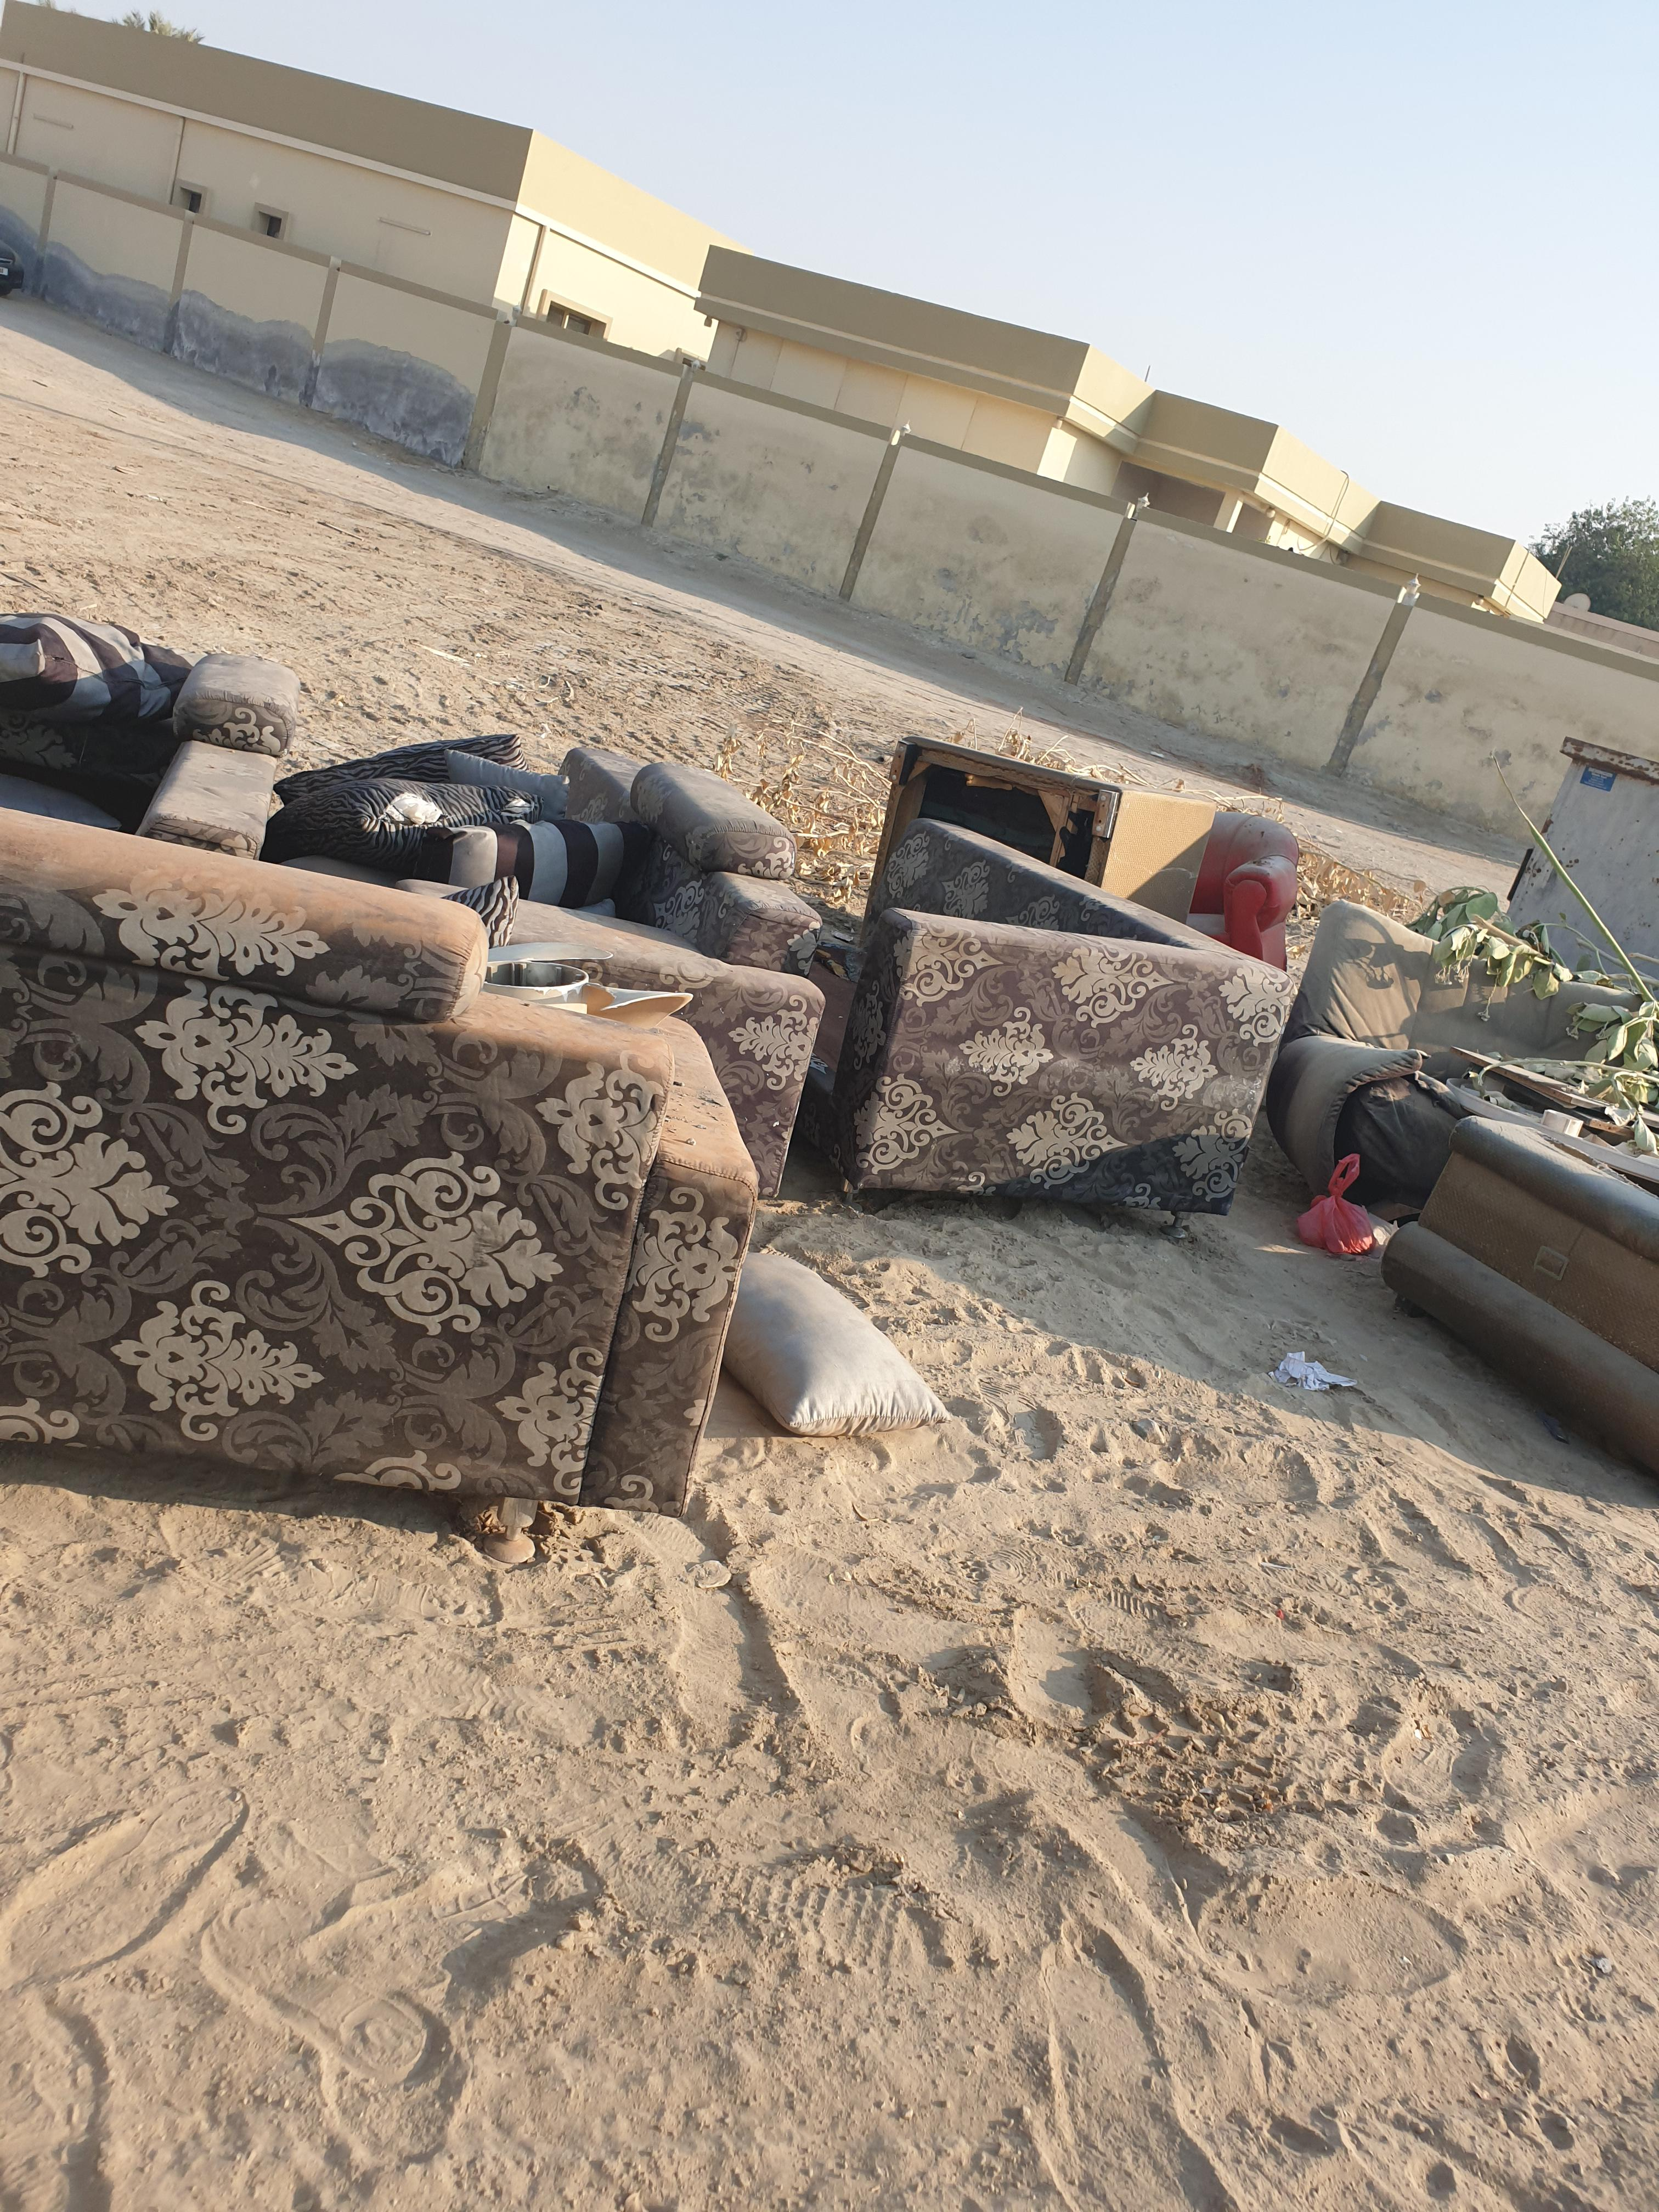uncollected_waste: (28, 568, 908, 1588), (423, 657, 1307, 1306)
